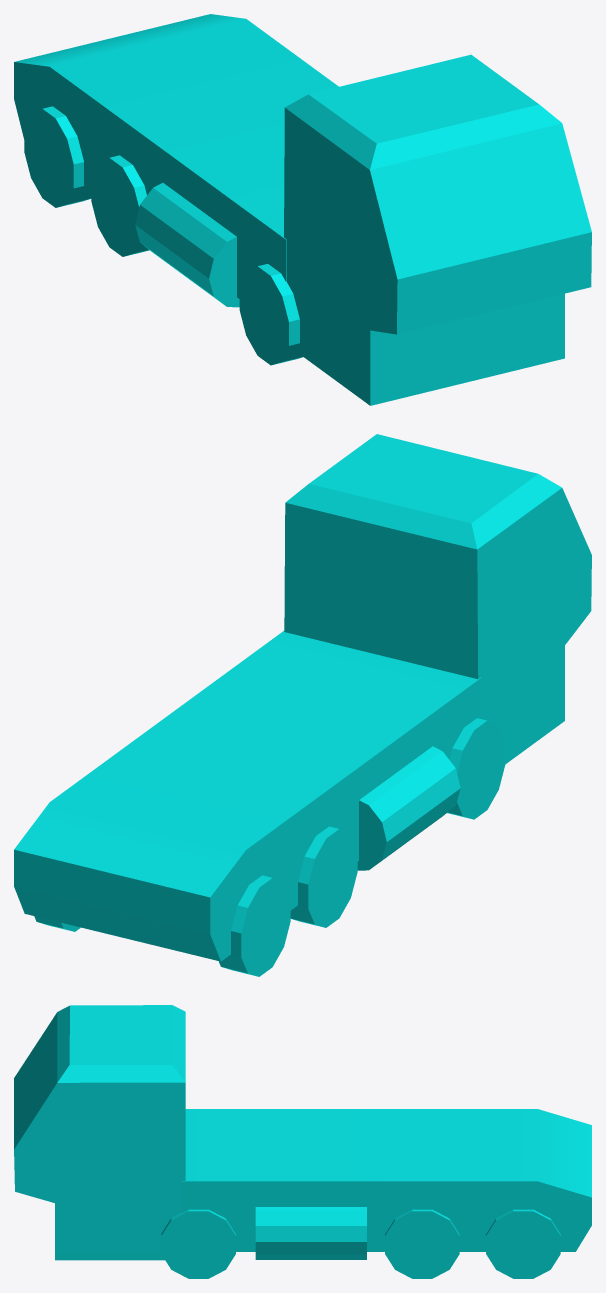
The model's file is SM_Veh_Truck_01_Collision.fbx.
3 renders of one model, top to bottom at view 1: azimuth 30°, elevation 25°; view 2: azimuth 150°, elevation 25°; view 3: azimuth 270°, elevation 25°, orthographic. The views are drawn at different scales.
Parts seen in each view (by area): view 1: SM_Veh_Truck_01_Collision; view 2: SM_Veh_Truck_01_Collision; view 3: SM_Veh_Truck_01_Collision.
Boxes of the visible parts, box(x1,y1,x2,y2) form: SM_Veh_Truck_01_Collision: box(14, 14, 591, 405); SM_Veh_Truck_01_Collision: box(14, 434, 591, 976); SM_Veh_Truck_01_Collision: box(14, 1005, 591, 1278).
Size of the model in its own units: 357 by 374 by 951.
